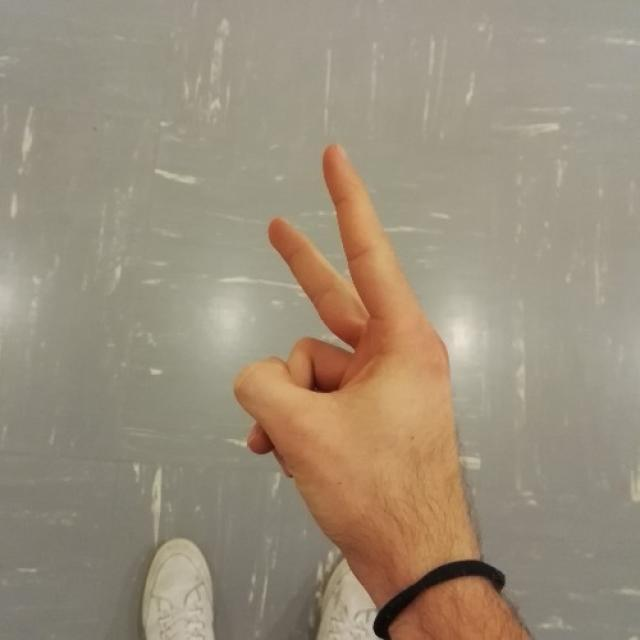scissors: (236, 142, 464, 489)
